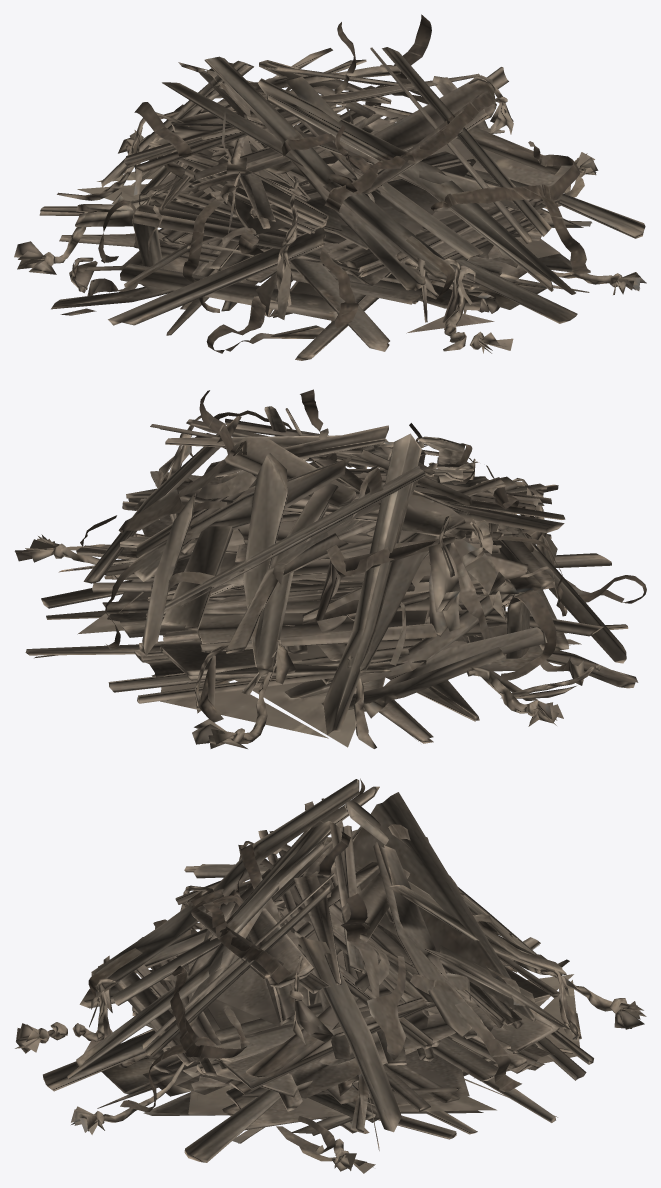
Rendered from des-crates-rubble.fbx.
3 renders of one model, top to bottom at view 1: azimuth 30°, elevation 25°; view 2: azimuth 150°, elevation 25°; view 3: azimuth 270°, elevation 25°, orthographic. The views are drawn at different scales.
Visible parts, largest first — view 1: Mesh_0; view 2: Mesh_0; view 3: Mesh_0.
Boxes of the visible parts, x1,y1,x2,y2 form: Mesh_0: (14, 14, 646, 360); Mesh_0: (14, 389, 646, 748); Mesh_0: (15, 778, 646, 1173).
Size of the model in its own units: 95.75 by 35.64 by 92.58.
1 material, 1 textured.
